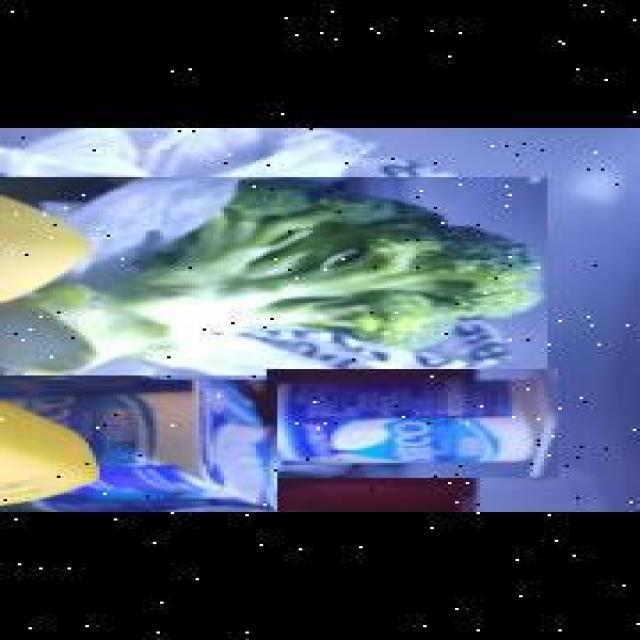banana: (0, 239, 153, 420), (0, 382, 156, 510), (0, 128, 82, 241)
broccoli: (0, 177, 544, 376)
yogurt: (0, 380, 274, 512), (263, 369, 555, 478)
